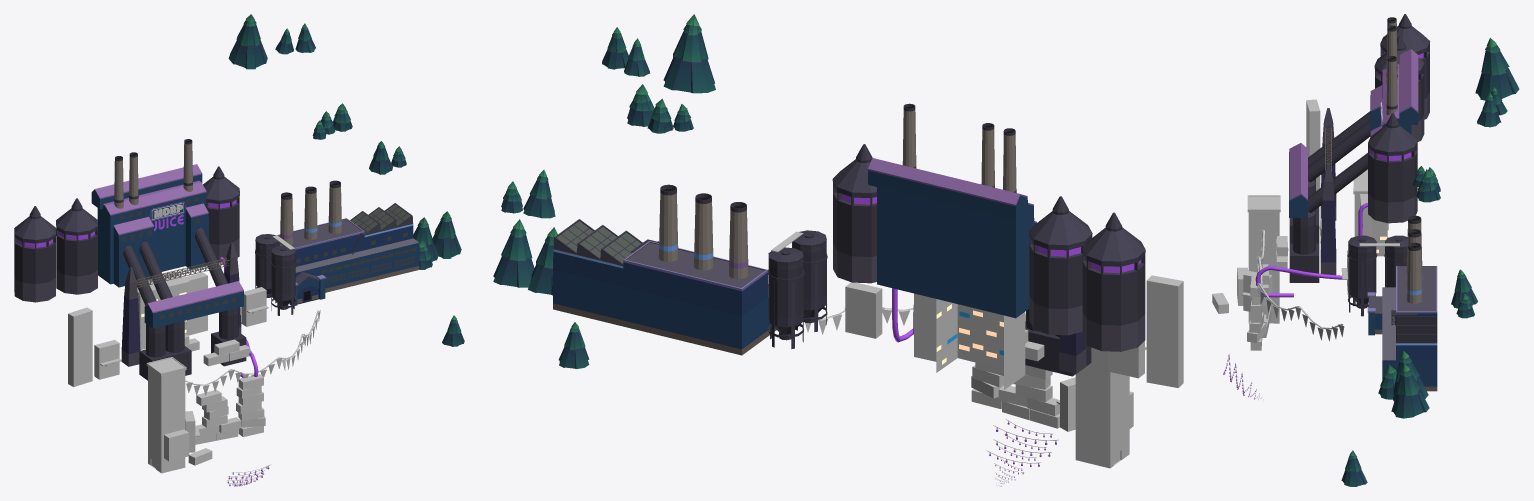
Rendered from EXT_MORP_RocksMine.fbx.
The picture shows the model from 3 angles, left to right: view 1: azimuth 30°, elevation 25°; view 2: azimuth 150°, elevation 25°; view 3: azimuth 270°, elevation 25°; orthographic projection. The views are drawn at different scales.
Parts seen in each view (by area): view 1: Building.044, Cube.159, Elevator, Water.032, Water.033, Water.031, Crates.027, Water.025, Crates.040, Cube.577, Trees.035, Water.026 (+26 smaller); view 2: Building.044, Cube.159, Water.032, Water.033, Elevator, Building.013, Water.031, Crates.027, Water.026, Trees.035, Water.025, Crates.051 (+19 smaller); view 3: Cube.159, Water.031, Building.044, Elevator, Water.025, Trees.035, Cube.582, Water.032, Trees.025, Water.033, Cylinder.170, Arc.002 (+20 smaller).
Part boxes in pixels (box(x1,y1,x2,y2)): Building.044: box(91, 164, 243, 328); Cube.159: box(277, 203, 419, 305); Elevator: box(146, 357, 186, 473); Water.032: box(14, 206, 56, 302); Water.033: box(56, 198, 97, 294); Water.031: box(203, 166, 239, 262); Crates.027: box(68, 307, 92, 386); Water.025: box(271, 245, 296, 315); Crates.040: box(236, 374, 265, 436); Cube.577: box(121, 267, 140, 366); Trees.035: box(228, 14, 267, 69); Water.026: box(255, 234, 279, 303); Building.044: box(868, 158, 1036, 318); Cube.159: box(553, 219, 776, 355); Water.032: box(1082, 212, 1145, 351); Water.033: box(1029, 196, 1092, 335); Elevator: box(1075, 347, 1129, 468); Building.013: box(936, 299, 1025, 389); Water.031: box(832, 144, 876, 283); Crates.027: box(1146, 275, 1183, 387); Water.026: box(767, 247, 804, 349); Trees.035: box(663, 14, 715, 93); Water.025: box(792, 230, 827, 331); Crates.051: box(845, 282, 884, 338); Cube.159: box(1367, 266, 1437, 391); Water.031: box(1368, 113, 1417, 223); Building.044: box(1289, 49, 1418, 217); Elevator: box(1247, 195, 1280, 323); Water.025: box(1347, 235, 1377, 316); Trees.035: box(1475, 38, 1519, 100); Cube.582: box(1320, 164, 1336, 274); Water.032: box(1380, 14, 1430, 119); Trees.025: box(1391, 363, 1429, 418); Water.033: box(1374, 36, 1424, 141); Cylinder.170: box(1308, 120, 1370, 182); Arc.002: box(1257, 229, 1344, 341).
Bounding box in the file's own units: 52209 × 41788 × 27364.
